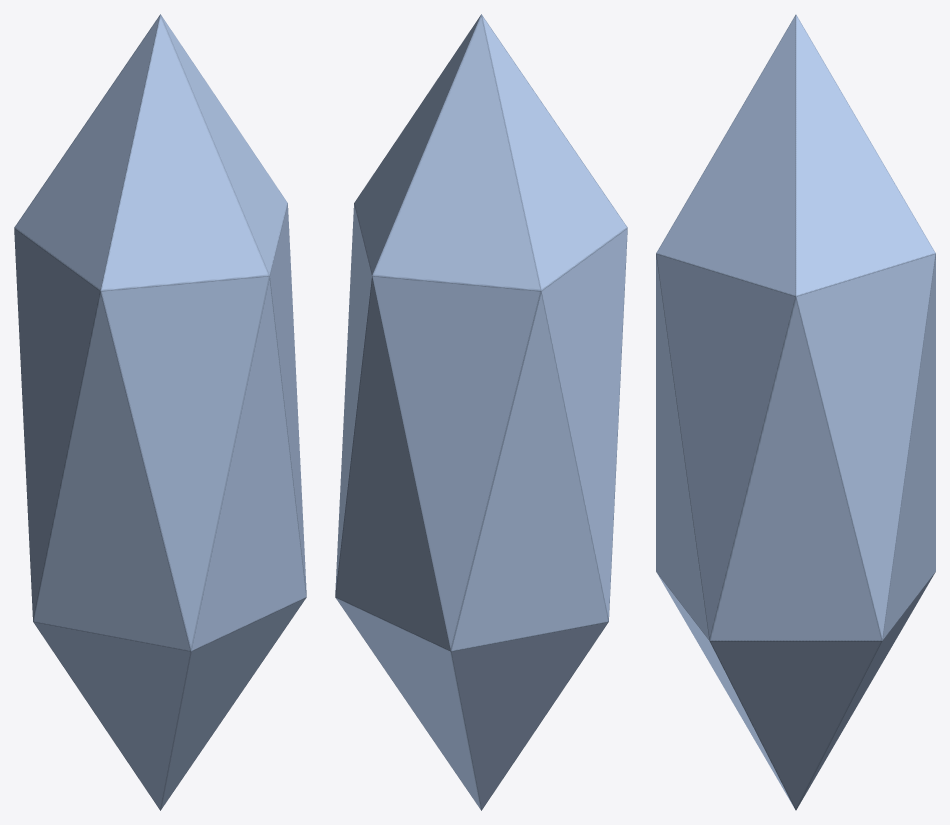
The model's file is Crystal_01_02.fbx.
The picture shows the model from 3 angles, left to right: view 1: azimuth 30°, elevation 25°; view 2: azimuth 150°, elevation 25°; view 3: azimuth 270°, elevation 25°; orthographic projection.
Parts seen in each view (by area): view 1: Crystal_01.001; view 2: Crystal_01.001; view 3: Crystal_01.001.
Part boxes in pixels (x1=…): Crystal_01.001: x1=14, y1=14, x2=306, y2=810; Crystal_01.001: x1=335, y1=14, x2=627, y2=810; Crystal_01.001: x1=656, y1=14, x2=935, y2=810.
Bounding box in the file's own units: 179 × 534 × 170.
1 material, 1 textured.
